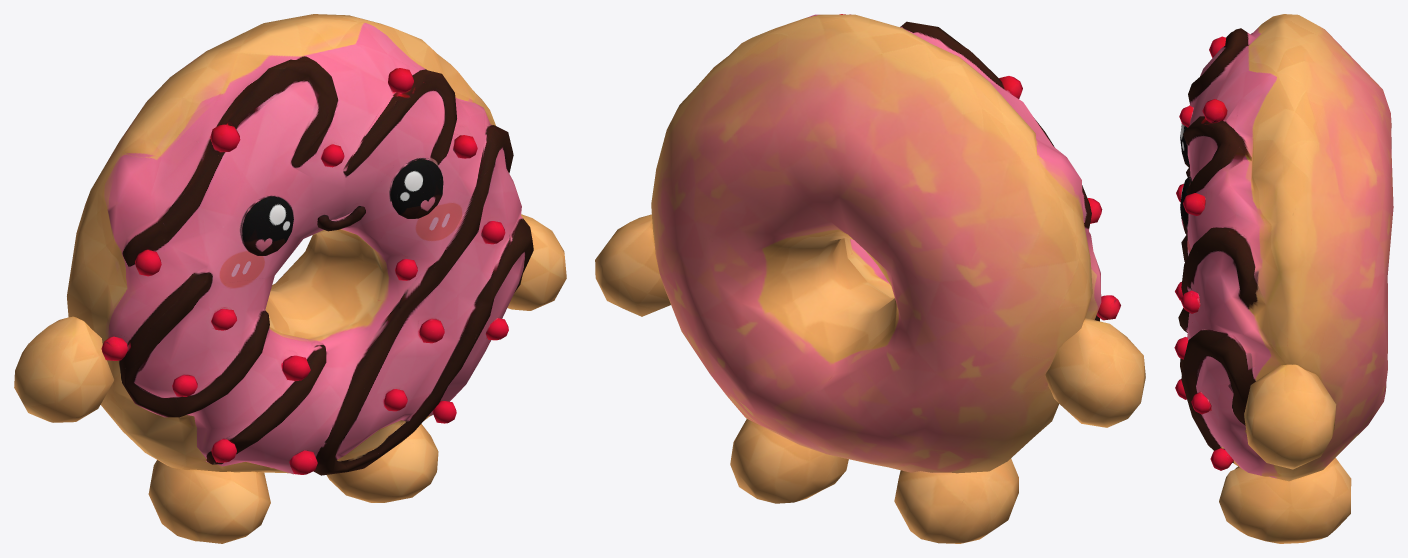
The model's file is source.fbx.
3 renders of one model, left to right at view 1: azimuth 30°, elevation 25°; view 2: azimuth 150°, elevation 25°; view 3: azimuth 270°, elevation 25°, orthographic. The views are drawn at different scales.
Parts seen in each view (by area): view 1: Mesh_0; view 2: Mesh_0; view 3: Mesh_0.
Boxes of the visible parts, x1,y1,x2,y2 form: Mesh_0: (14, 14, 566, 543); Mesh_0: (595, 14, 1145, 543); Mesh_0: (1174, 14, 1393, 543).
Bounding box in the file's own units: 81.81 × 70 × 30.56.
Materials: 1 (1 with a texture image).
